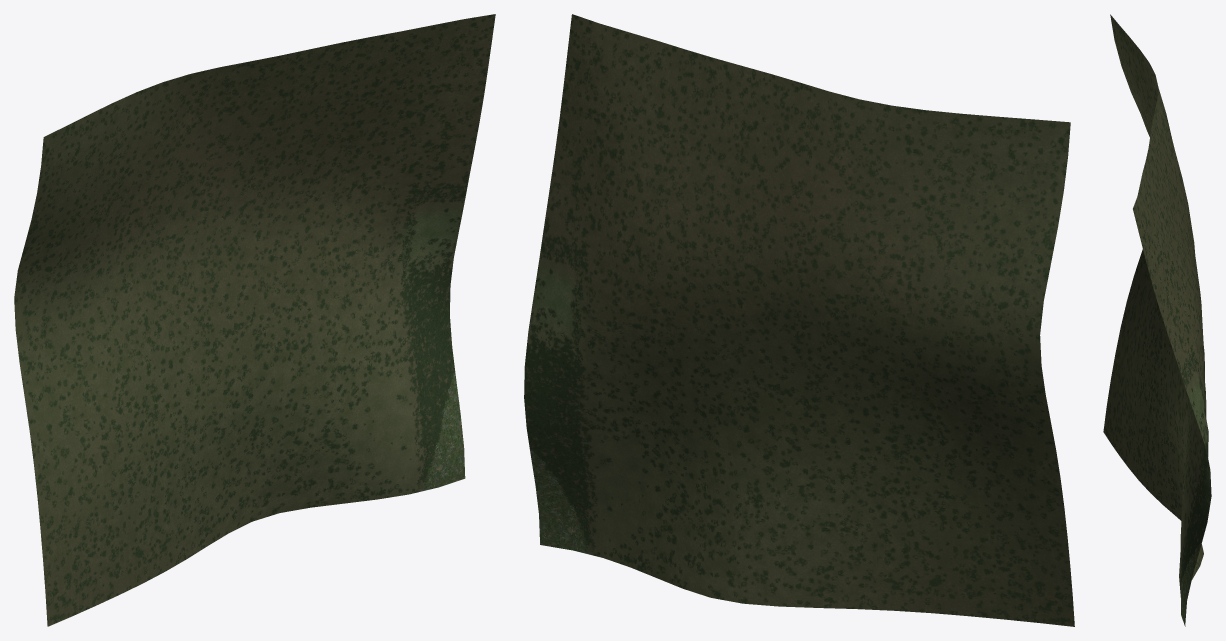
Rendered from terrain_mid_02_04.obj.
3 views of the same model, side by side, from view 1: azimuth 30°, elevation 25°; view 2: azimuth 150°, elevation 25°; view 3: azimuth 270°, elevation 25° (orthographic). The views are drawn at different scales.
Parts seen in each view (by area): view 1: terrain_mid_02_04; view 2: terrain_mid_02_04; view 3: terrain_mid_02_04.
Part boxes in pixels (x1=…): terrain_mid_02_04: x1=14, y1=14, x2=495, y2=626; terrain_mid_02_04: x1=524, y1=14, x2=1074, y2=626; terrain_mid_02_04: x1=1103, y1=14, x2=1211, y2=626.
Size of the model in its own units: 320 by 320 by 75.04.
Materials: 1 (1 with a texture image).
